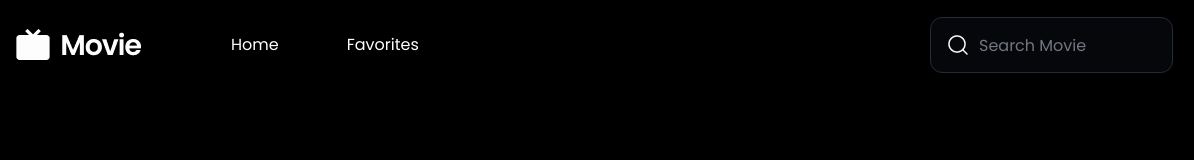
Test: Navbar search validation › clears the validation message once the query is long enough
The image size is (1194, 160).
Type "a" into the field with placeholder "Search Movie" at (1052, 45), box top-left (930, 17), bottom-right (1173, 73)
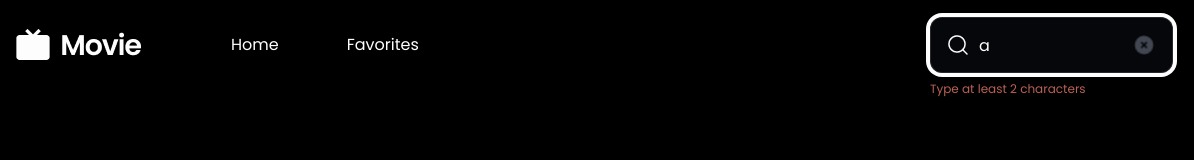
Now the text "Type at least 2 characters" is shown, box top-left (930, 77), bottom-right (1086, 101)
Type "b" into the field with placeholder "Search Movie" at (1052, 45), box top-left (930, 17), bottom-right (1173, 73)
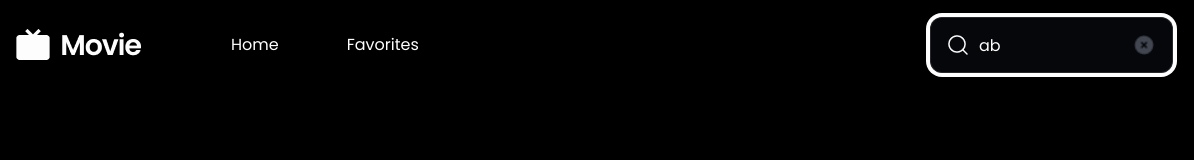
Now the text "Type at least 2 characters" is gone
